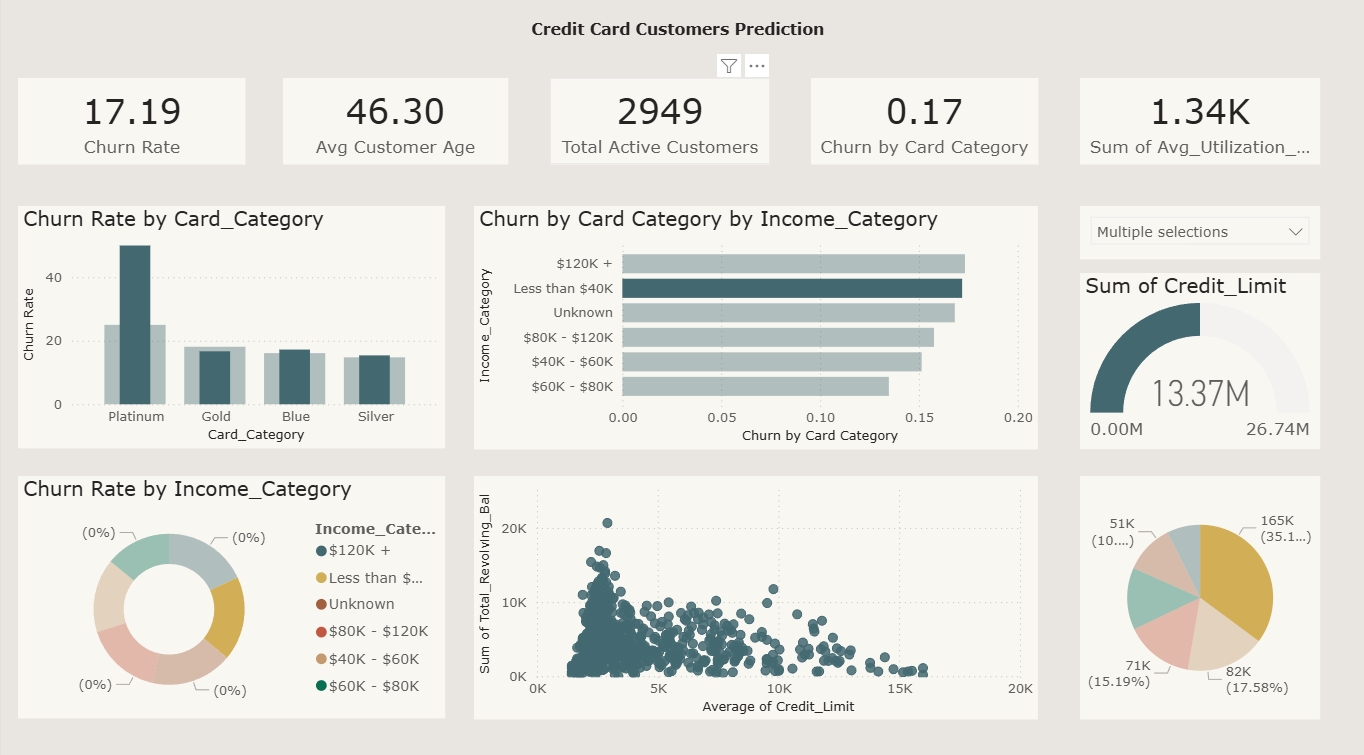

The dashboard page shown, as its layout file describes it:
{"tool":"powerbi","page":{"name":"Page 1","canvas":[1280,720],"ordinal":0},"visuals":[{"type":"card","fields":{"Values":["BankChurners.Churn Rate"]},"box":[15.9,77.7,213.5,80.5],"z":0},{"type":"card","fields":{"Values":["Sum(BankChurners.Avg_Utilization_Ratio)"]},"box":[1010.3,77.7,224.7,80.5],"z":1},{"type":"card","fields":{"Values":["BankChurners.Avg Customer Age"]},"box":[263.8,77.7,210.7,80.5],"z":2},{"type":"card","fields":{"Values":["BankChurners.Total Active Customers"]},"box":[513.6,77.7,206,80.5],"z":3},{"type":"card","fields":{"Values":["BankChurners.Churn by Card Category"]},"box":[758.7,77.7,212.6,80.5],"z":4},{"type":"columnChart","fields":{"Category":["BankChurners.Card_Category"],"Y":["BankChurners.Churn Rate"]},"box":[15.9,197.6,399.8,226.6],"z":5},{"type":"donutChart","fields":{"Y":["BankChurners.Churn Rate"],"Category":["BankChurners.Income_Category"]},"box":[15.9,450.4,399.8,226.6],"z":6},{"type":"clusteredBarChart","fields":{"Category":["BankChurners.Income_Category"],"Y":["BankChurners.Churn by Card Category"]},"box":[442.9,197.6,528.1,227.5],"z":7},{"type":"scatterChart","fields":{"Category":["BankChurners.Avg_Utilization_Ratio"],"Y":["Sum(BankChurners.Total_Revolving_Bal)"],"X":["Avg(BankChurners.Credit_Limit)"]},"box":[442.9,450.4,528.1,228.5],"z":8},{"type":"slicer","fields":{"Values":["BankChurners.Card_Category"]},"box":[1010.3,197.6,224.7,49.6],"z":9},{"type":"gauge","fields":{"Y":["Sum(BankChurners.Credit_Limit)"]},"box":[1010.3,260.3,224.7,164.8],"z":10},{"type":"pieChart","fields":{"Category":["BankChurners.Income_Category"],"Y":["Sum(BankChurners.Customer_Age)"]},"box":[1010,450,225,228],"z":11},{"type":"textbox","box":[491.6,17.8,296.8,44],"z":12}]}

Visuals, with their boxes in screenshot pixels (x1, y1, x2, y2), scaled from the page's 1280x720 canvas onto the 1364x755 screenshot:
card - BankChurners.Churn Rate: pyautogui.locateOnScreen(17, 81, 244, 166)
card - Sum(BankChurners.Avg_Utilization_Ratio): pyautogui.locateOnScreen(1077, 81, 1316, 166)
card - BankChurners.Avg Customer Age: pyautogui.locateOnScreen(281, 81, 506, 166)
card - BankChurners.Total Active Customers: pyautogui.locateOnScreen(547, 81, 767, 166)
card - BankChurners.Churn by Card Category: pyautogui.locateOnScreen(808, 81, 1035, 166)
columnChart - BankChurners.Card_Category x BankChurners.Churn Rate: pyautogui.locateOnScreen(17, 207, 443, 445)
donutChart - BankChurners.Churn Rate x BankChurners.Income_Category: pyautogui.locateOnScreen(17, 472, 443, 710)
clusteredBarChart - BankChurners.Income_Category x BankChurners.Churn by Card Category: pyautogui.locateOnScreen(472, 207, 1035, 446)
scatterChart - BankChurners.Avg_Utilization_Ratio x Sum(BankChurners.Total_Revolving_Bal): pyautogui.locateOnScreen(472, 472, 1035, 712)
slicer - BankChurners.Card_Category: pyautogui.locateOnScreen(1077, 207, 1316, 259)
gauge - Sum(BankChurners.Credit_Limit): pyautogui.locateOnScreen(1077, 273, 1316, 446)
pieChart - BankChurners.Income_Category x Sum(BankChurners.Customer_Age): pyautogui.locateOnScreen(1076, 472, 1316, 711)
textbox: pyautogui.locateOnScreen(524, 19, 840, 65)
